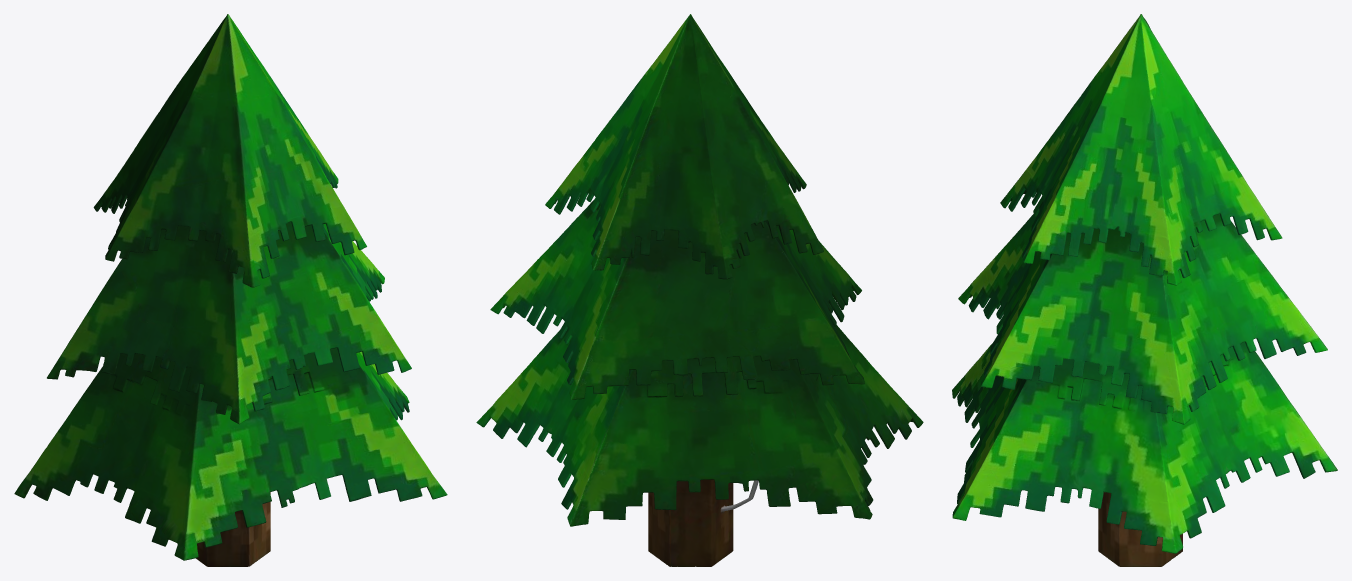
The model's file is pine tree.glb.
The picture shows the model from 3 angles, left to right: view 1: azimuth 30°, elevation 25°; view 2: azimuth 150°, elevation 25°; view 3: azimuth 270°, elevation 25°; orthographic projection.
Parts seen in each view (by area): view 1: tripo_node_78d6f3f2-eec8-4626-94ff-0fd89ade47fd; view 2: tripo_node_78d6f3f2-eec8-4626-94ff-0fd89ade47fd; view 3: tripo_node_78d6f3f2-eec8-4626-94ff-0fd89ade47fd.
Part boxes in pixels (bbox=[...]): tripo_node_78d6f3f2-eec8-4626-94ff-0fd89ade47fd: bbox=[14, 14, 447, 566]; tripo_node_78d6f3f2-eec8-4626-94ff-0fd89ade47fd: bbox=[476, 14, 923, 566]; tripo_node_78d6f3f2-eec8-4626-94ff-0fd89ade47fd: bbox=[952, 14, 1337, 566].
Size of the model in its own units: 0.751 by 0.981 by 0.638.
1 material, 1 textured.
